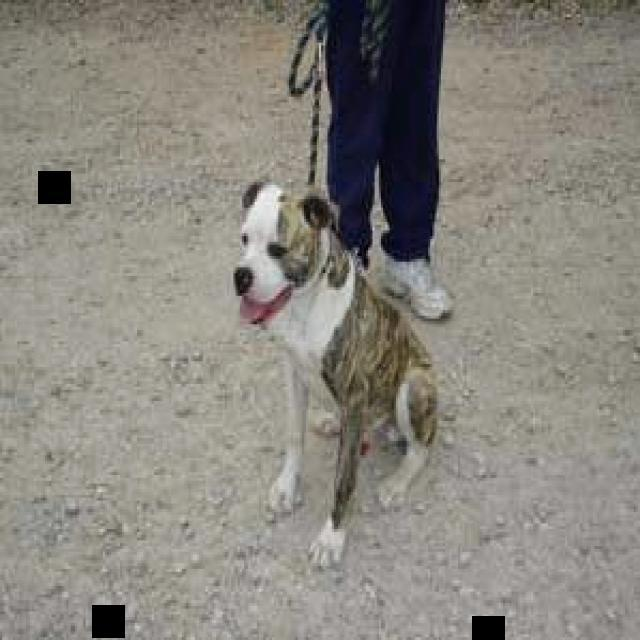adult_dog: (231, 179, 442, 569)
